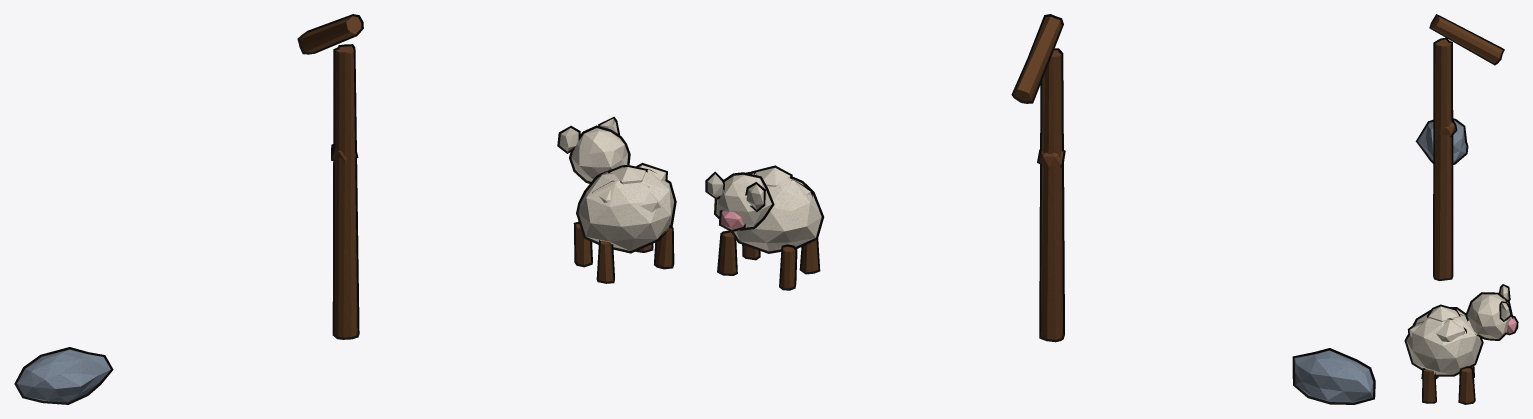
File: wonder_items_v3.glb
3 renders of one model, left to right at view 1: azimuth 30°, elevation 25°; view 2: azimuth 150°, elevation 25°; view 3: azimuth 270°, elevation 25°, orthographic. The views are drawn at different scales.
Visible parts, largest first — view 1: WonderItem_Lamb, WonderItem_Staff, WonderItem_Stone, WonderItem_Lamb_Outline, WonderItem_Staff_Outline, WonderItem_Stone_Outline; view 2: WonderItem_Lamb, WonderItem_Staff, WonderItem_Stone, WonderItem_Lamb_Outline, WonderItem_Staff_Outline, WonderItem_Stone_Outline; view 3: WonderItem_Lamb, WonderItem_Staff, WonderItem_Staff_Outline, WonderItem_Lamb_Outline, WonderItem_Stone, WonderItem_Stone_Outline.
Boxes of the visible parts, left/top/right/bottom form: WonderItem_Lamb: left=559, top=118, right=673, bottom=281; WonderItem_Staff: left=300, top=16, right=361, bottom=337; WonderItem_Stone: left=17, top=349, right=110, bottom=402; WonderItem_Lamb_Outline: left=557, top=116, right=676, bottom=283; WonderItem_Staff_Outline: left=297, top=14, right=363, bottom=339; WonderItem_Stone_Outline: left=14, top=347, right=113, bottom=404; WonderItem_Lamb: left=707, top=168, right=821, bottom=288; WonderItem_Staff: left=1014, top=16, right=1063, bottom=339; WonderItem_Stone: left=1294, top=350, right=1373, bottom=402; WonderItem_Lamb_Outline: left=705, top=165, right=824, bottom=290; WonderItem_Staff_Outline: left=1011, top=14, right=1065, bottom=342; WonderItem_Stone_Outline: left=1292, top=348, right=1375, bottom=404; WonderItem_Lamb: left=1406, top=286, right=1516, bottom=402; WonderItem_Staff: left=1431, top=16, right=1502, bottom=279; WonderItem_Staff_Outline: left=1429, top=14, right=1504, bottom=280; WonderItem_Lamb_Outline: left=1404, top=284, right=1518, bottom=404; WonderItem_Stone: left=1418, top=120, right=1466, bottom=162; WonderItem_Stone_Outline: left=1415, top=118, right=1468, bottom=164.
Bounding box in the file's own units: 3.71 × 1.75 × 0.6859.
Materials: 5 (5 with a texture image).
